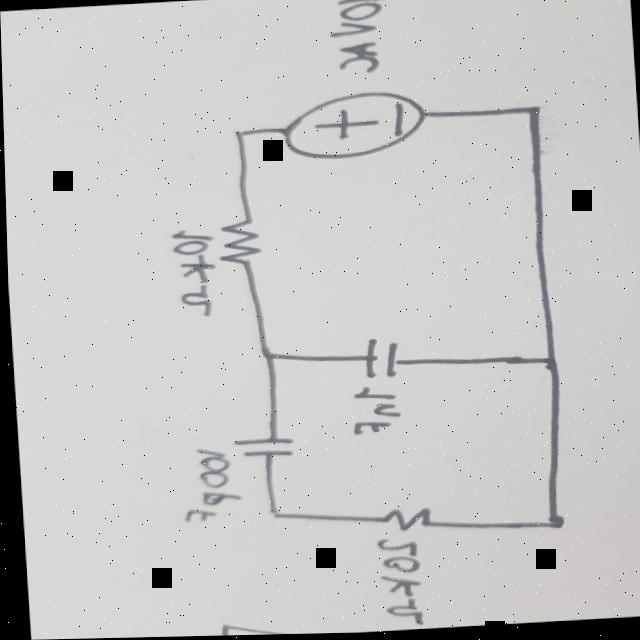capacitor: (344, 336, 411, 384), (226, 435, 295, 463)
junction: (255, 504, 296, 528), (508, 104, 548, 124), (249, 346, 282, 370), (530, 514, 565, 534), (222, 126, 250, 142), (530, 356, 562, 369)
resistor: (362, 504, 446, 536), (212, 219, 265, 268)
source: (282, 86, 428, 164)
text: (172, 444, 241, 525), (366, 537, 426, 630), (324, 0, 391, 80), (162, 227, 214, 319), (343, 386, 408, 441)
